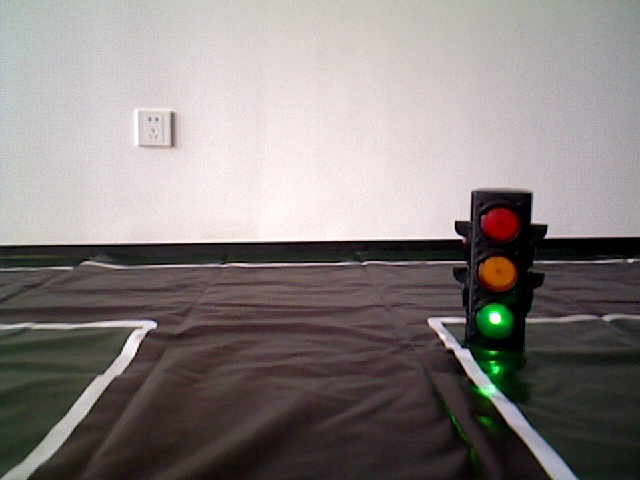green: (473, 196, 528, 343)
